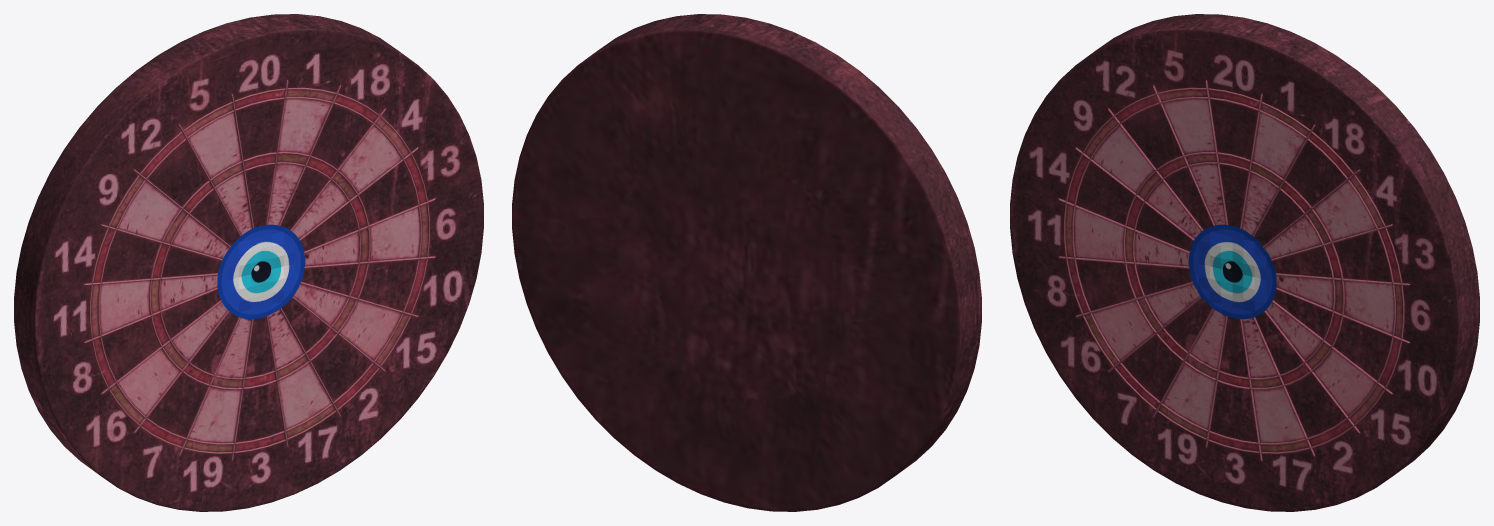
Rendered from nyb_cocktail_dartboard.glb.
3 renders of one model, left to right at view 1: azimuth 30°, elevation 25°; view 2: azimuth 150°, elevation 25°; view 3: azimuth 330°, elevation 25°, orthographic.
Parts seen in each view (by area): view 1: dartboard, stk_nazar.png; view 2: dartboard; view 3: dartboard, stk_nazar.png.
Boxes of the visible parts, <box> form: dartboard: <box>14,14,483,511</box>; stk_nazar.png: <box>217,224,305,318</box>; dartboard: <box>512,14,981,511</box>; dartboard: <box>1010,14,1479,511</box>; stk_nazar.png: <box>1188,224,1276,318</box>.
Size of the model in its own units: 0.4507 by 0.4507 by 0.0423.
Materials: 2 (2 with a texture image).
